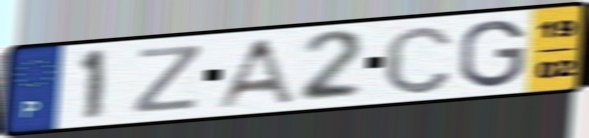1: (73, 47, 108, 124)
2: (299, 28, 368, 107)
A: (210, 36, 299, 111)
C: (380, 22, 456, 97)
G: (456, 17, 528, 90)
Z: (129, 43, 207, 116)
